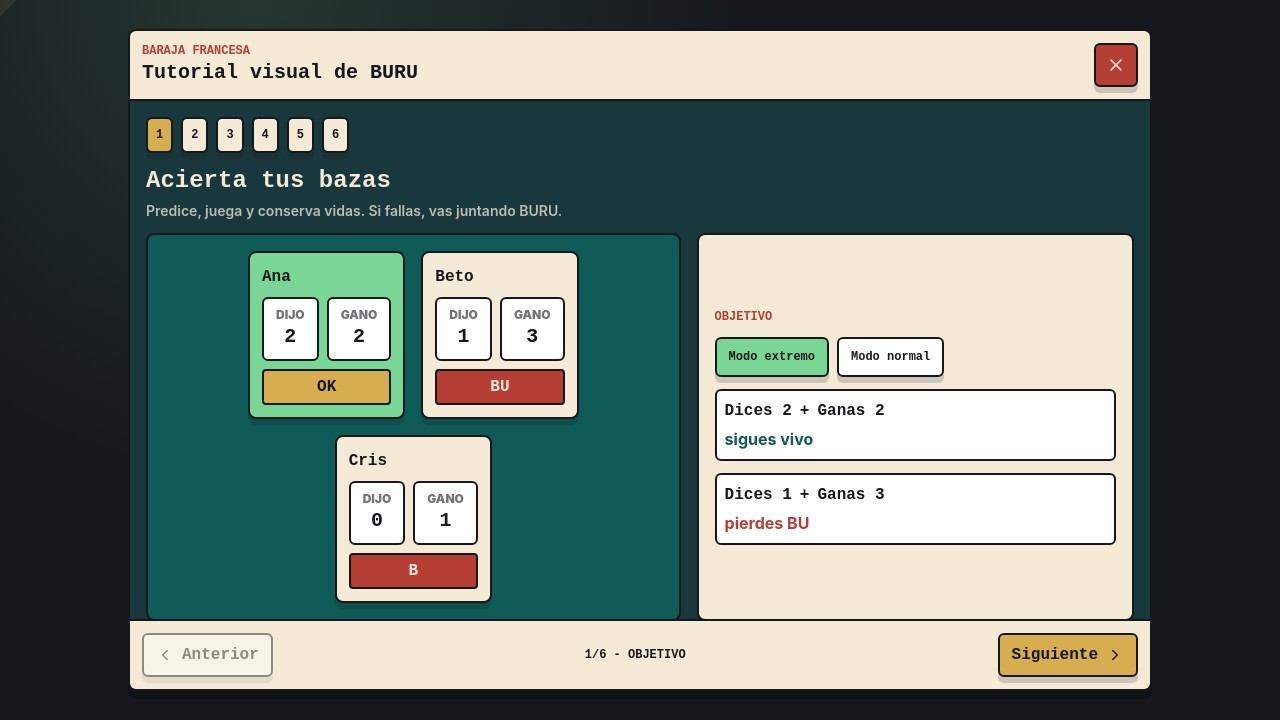
Scenario: GameRulesTutorial › switches the tie winner between Diego and Lete rules
Click the button with aria-label "Siguiente escena" at (1068, 655), box [998,633,1138,677]
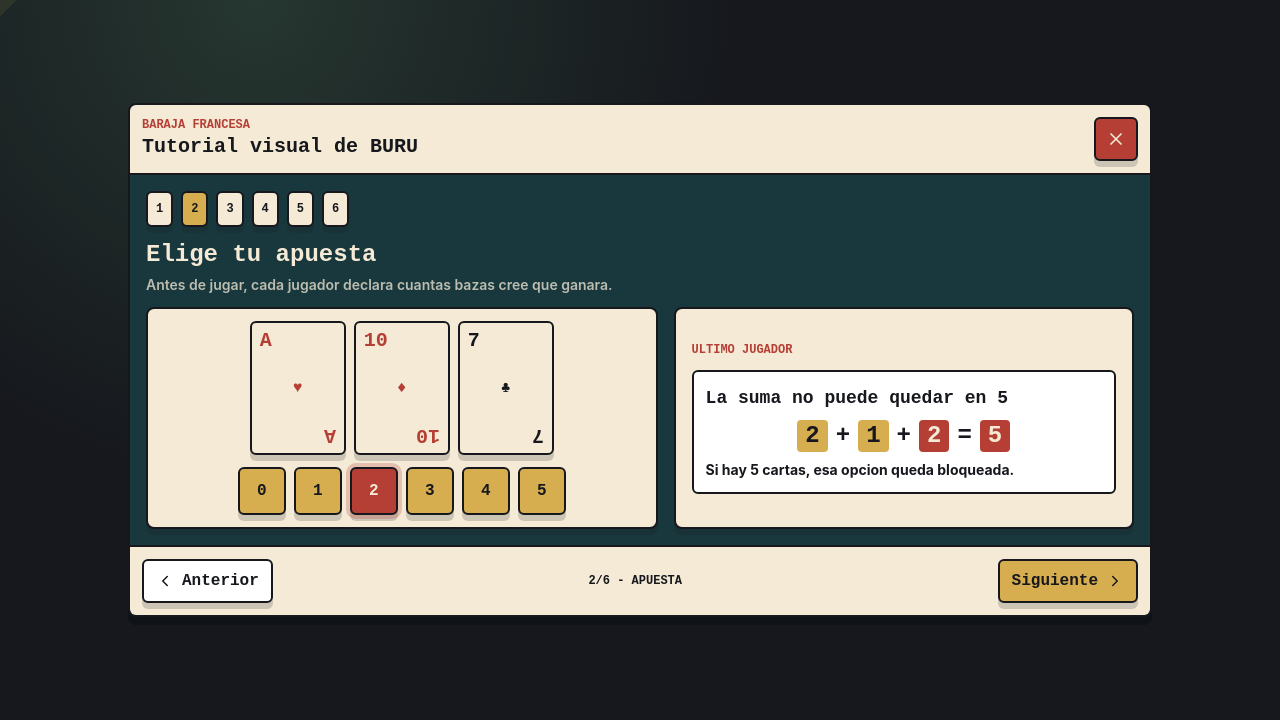
Click the button with aria-label "Siguiente escena" at (1068, 581), box [998,559,1138,603]
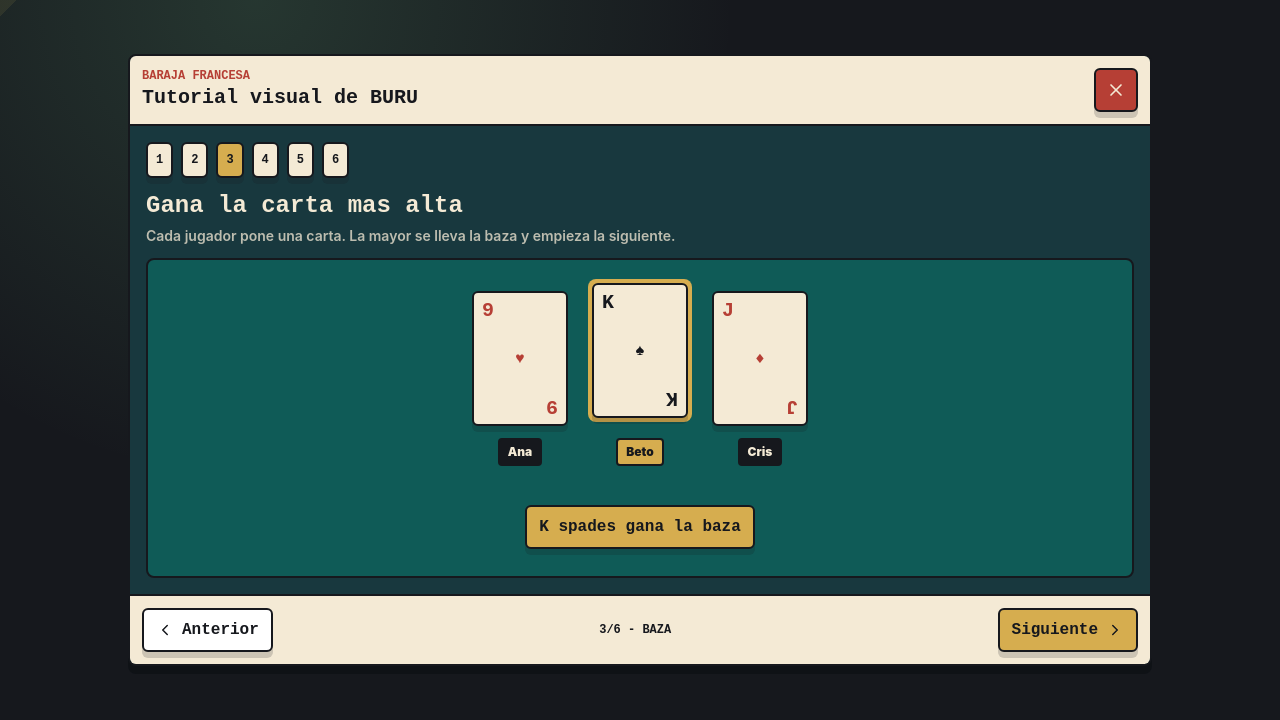
Click the button with aria-label "Siguiente escena" at (1068, 630), box [998,608,1138,652]
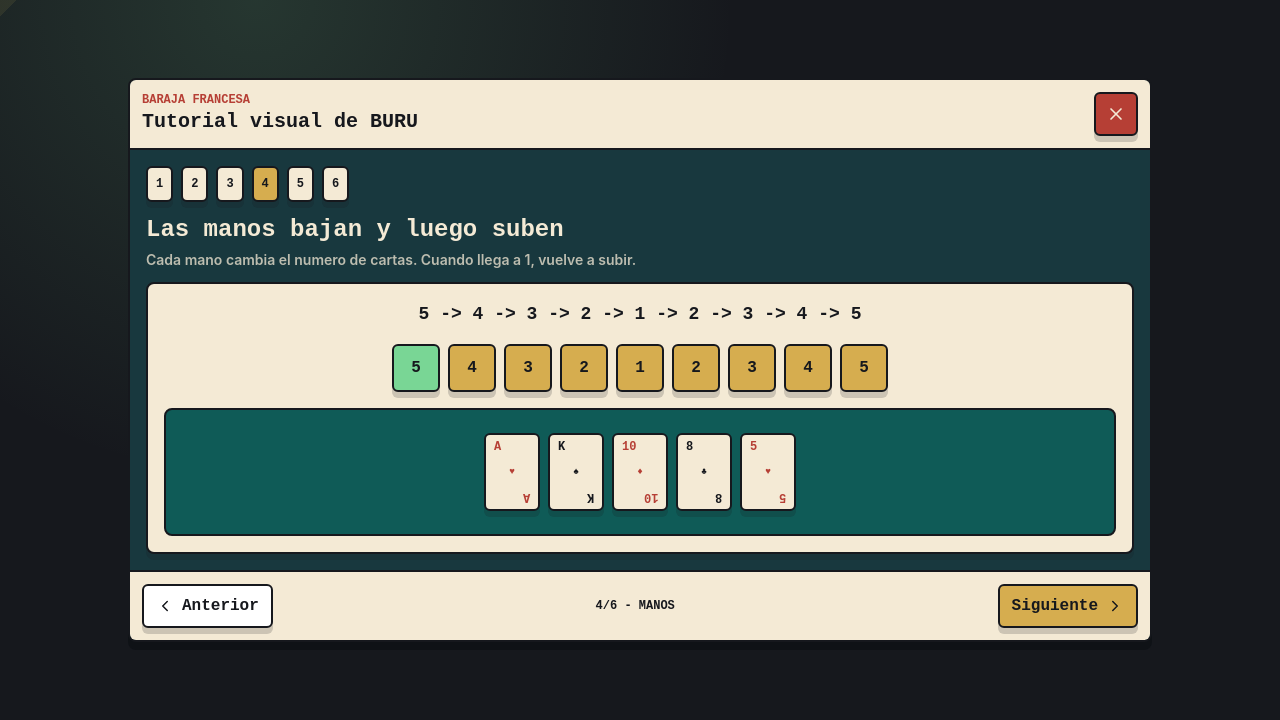
Click the button with aria-label "Siguiente escena" at (1068, 606), box [998,584,1138,628]
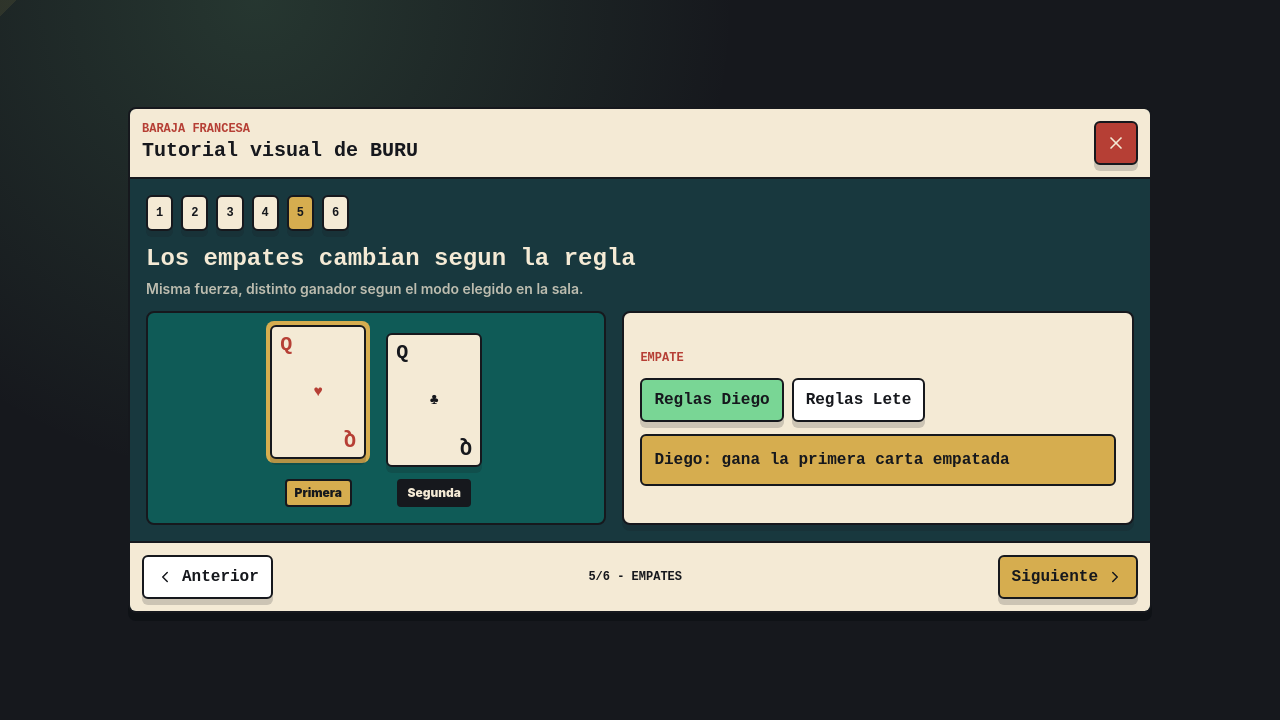
Now the text "Diego: gana la primera carta empatada" is shown, box [640,434,1116,486]
Click the button "Reglas Lete" at (858, 400), box [792,378,925,422]
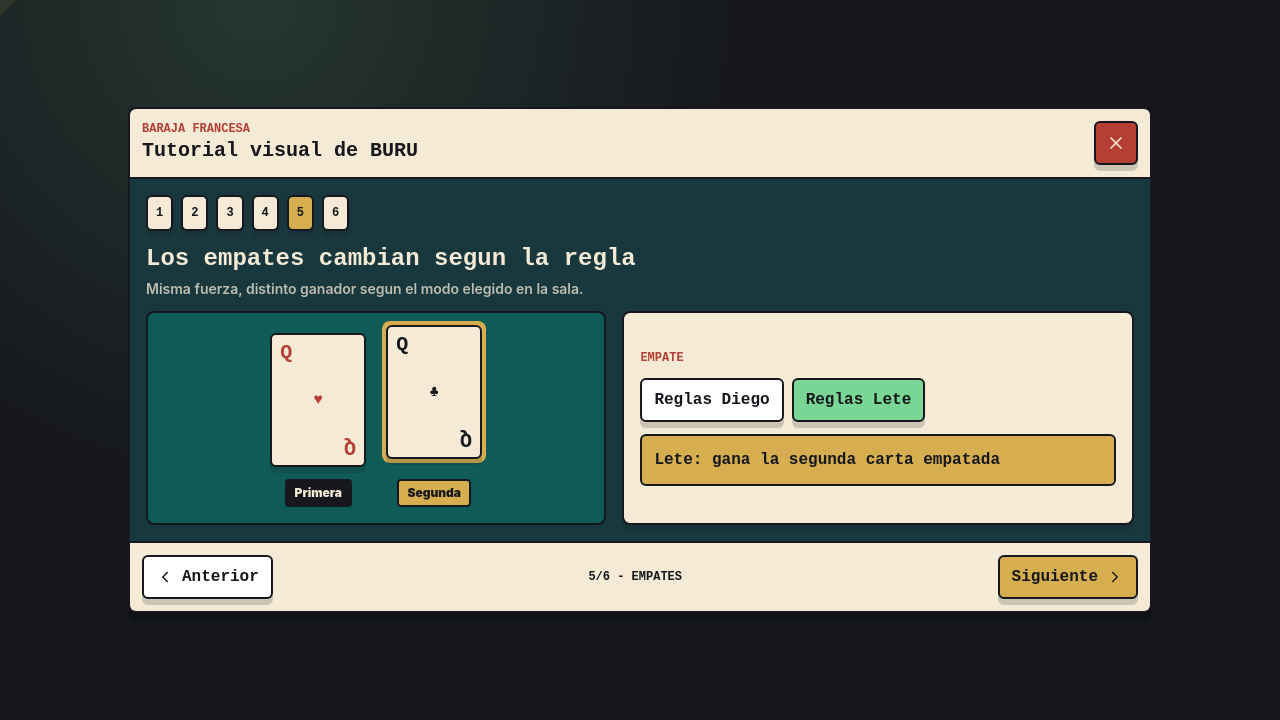
Now the text "Lete: gana la segunda carta empatada" is shown, box [640,434,1116,486]
